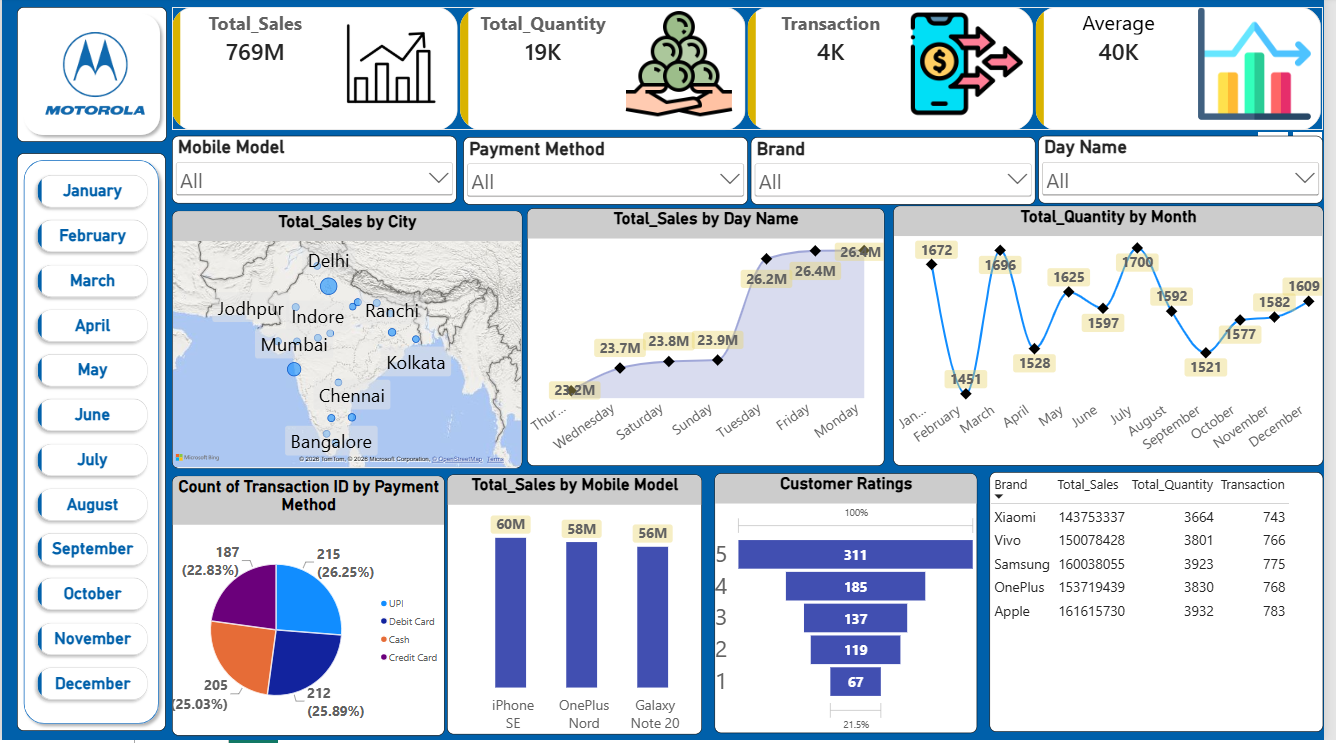

Layout of this report page (visuals, bound fields, positions):
{"tool":"powerbi","page":{"name":"Page 1","canvas":[1920,1080],"ordinal":0},"visuals":[{"type":"shape","box":[21.8,14.5,217.9,196.1],"z":0},{"type":"image","box":[50.8,38.1,168.9,145.3],"z":1000},{"type":"shape","box":[21.8,227,216.1,838.9],"z":2000},{"type":"advancedSlicerVisual","fields":{"Values":["Mobile Sales Report.Date.Variation.Date Hierarchy.Month"]},"box":[43.6,250.6,176.1,789.8],"z":3000},{"type":"cardVisual","fields":{"Data":["Mobile Sales Report.Total_Sales","Mobile Sales Report.Total_Quantity","Mobile Sales Report.Transaction","Mobile Sales Report.Average"]},"box":[246.9,14.5,1672.3,179.8],"z":4000},{"type":"map","fields":{"Category":["Mobile Sales Report.City"],"Size":["Mobile Sales Report.Total_Sales"]},"box":[246.9,310.5,508.4,374],"z":5000},{"type":"lineChart","fields":{"Category":["Mobile Sales Report.Date.Variation.Date Hierarchy.Month","Mobile Sales Report.Date.Variation.Date Hierarchy.Day"],"Y":["Mobile Sales Report.Total_Quantity"]},"box":[1294.6,303.2,624.6,377.7],"z":6000},{"type":"clusteredColumnChart","fields":{"Category":["Mobile Sales Report.Mobile Model"],"Y":["Mobile Sales Report.Total_Sales"]},"box":[646.4,693.6,370.4,377.7],"z":7000},{"type":"pieChart","fields":{"Category":["Mobile Sales Report.Payment Method"],"Y":["CountNonNull(Mobile Sales Report.Transaction ID)"]},"box":[246.9,695.4,395.8,377.7],"z":8000},{"type":"funnel","title":"Customer Ratings","fields":{"Category":["Mobile Sales Report.Customer Ratings"],"Y":["CountNonNull(Mobile Sales Report.Customer Ratings)"]},"box":[1035,691.8,381.3,377.7],"z":9000},{"type":"areaChart","fields":{"Category":["Mobile Sales Report.Day Name"],"Y":["Mobile Sales Report.Total_Sales"]},"box":[762.6,306.9,519.3,374],"z":10000},{"type":"tableEx","fields":{"Values":["Mobile Sales Report.Brand","Mobile Sales Report.Total_Sales","Mobile Sales Report.Total_Quantity","Mobile Sales Report.Transaction"]},"box":[1434.4,690,484.8,377.7],"z":11000},{"type":"slicer","fields":{"Values":["Mobile Sales Report.Mobile Model"]},"box":[246.9,201.5,414,98.1],"z":12000},{"type":"slicer","fields":{"Values":["Mobile Sales Report.Payment Method"]},"box":[670,203.4,414,98.1],"z":12001},{"type":"slicer","fields":{"Values":["Mobile Sales Report.Brand"]},"box":[1087.6,203.4,414,98.1],"z":12002},{"type":"slicer","fields":{"Values":["Mobile Sales Report.Day Name"]},"box":[1505.3,201.5,414,98.1],"z":12003}]}

Visuals, with their boxes in screenshot pixels (x1, y1, x2, y2), scaled from the page's 1920x1080 canvas onto the 1336x743 screenshot:
shape: Rect(15, 10, 167, 145)
image: Rect(35, 26, 153, 126)
shape: Rect(15, 156, 166, 733)
advancedSlicerVisual - Mobile Sales Report.Date.Variation.Date Hierarchy.Month: Rect(30, 172, 153, 716)
cardVisual - Mobile Sales Report.Total_Sales x Mobile Sales Report.Total_Quantity: Rect(172, 10, 1335, 134)
map - Mobile Sales Report.City x Mobile Sales Report.Total_Sales: Rect(172, 214, 526, 471)
lineChart - Mobile Sales Report.Date.Variation.Date Hierarchy.Month x Mobile Sales Report.Date.Variation.Date Hierarchy.Day: Rect(901, 209, 1335, 468)
clusteredColumnChart - Mobile Sales Report.Mobile Model x Mobile Sales Report.Total_Sales: Rect(450, 477, 708, 737)
pieChart - Mobile Sales Report.Payment Method x CountNonNull(Mobile Sales Report.Transaction ID): Rect(172, 478, 447, 738)
"Customer Ratings" funnel: Rect(720, 476, 986, 736)
areaChart - Mobile Sales Report.Day Name x Mobile Sales Report.Total_Sales: Rect(531, 211, 892, 468)
tableEx - Mobile Sales Report.Brand x Mobile Sales Report.Total_Sales: Rect(998, 475, 1335, 735)
slicer - Mobile Sales Report.Mobile Model: Rect(172, 139, 460, 206)
slicer - Mobile Sales Report.Payment Method: Rect(466, 140, 754, 207)
slicer - Mobile Sales Report.Brand: Rect(757, 140, 1045, 207)
slicer - Mobile Sales Report.Day Name: Rect(1047, 139, 1335, 206)
